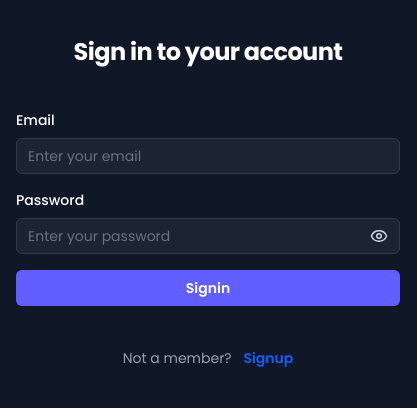
Test case: LoginForm › clears field errors when values change
Click the button "Signin".
click(208, 288)  # box [16, 270, 400, 306]
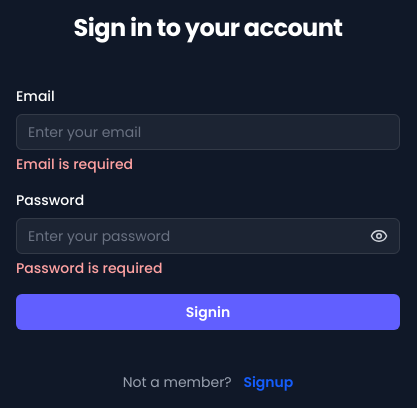
Expected: the text "Email is required" is shown, [16, 154, 133, 174]
Type "test@example.com" into the field labelled "Email".
click(208, 132); type("test@example.com")  # box [16, 114, 400, 150]
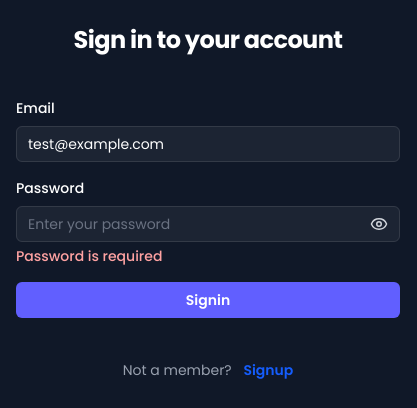
Expected: the text "Email is required" is gone
